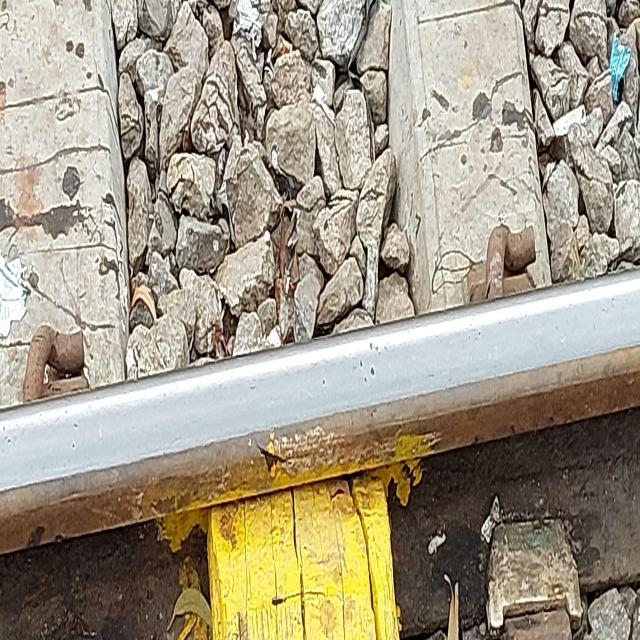squats_high: (357, 343, 387, 388)
